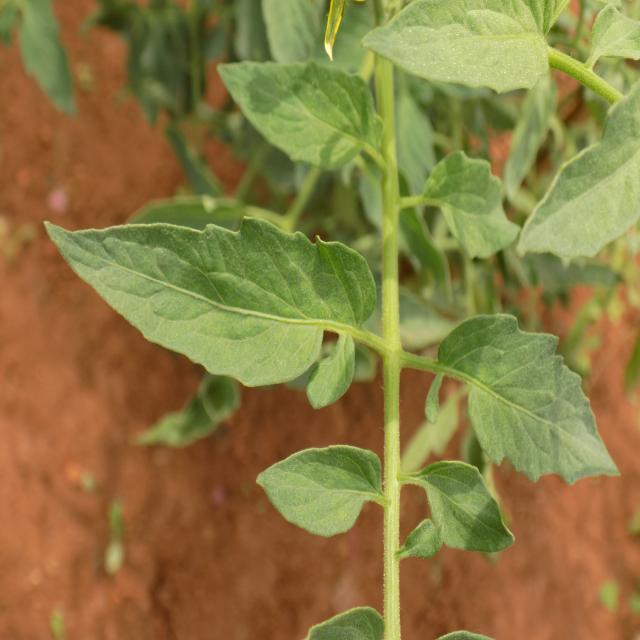tomato_healthy: (40, 214, 379, 406), (427, 310, 620, 485), (221, 55, 384, 174), (416, 141, 521, 255), (252, 446, 388, 533), (413, 459, 520, 555)
